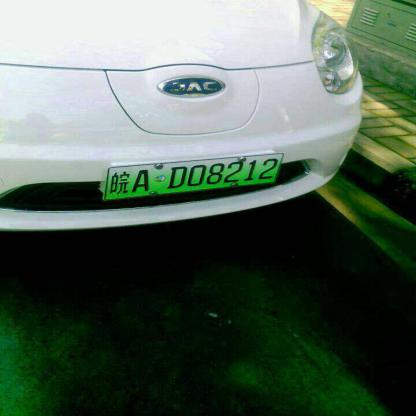lp: (102, 153, 283, 201)
